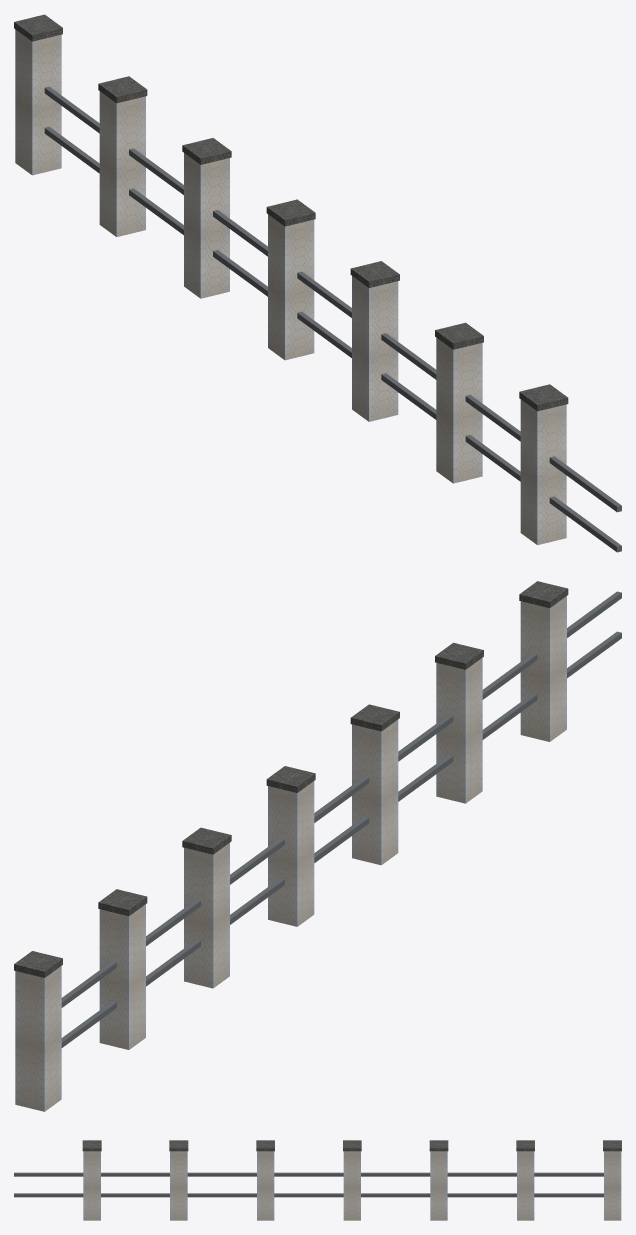
The model's file is Subway05_InterBorder.FBX.
The picture shows the model from 3 angles, top to bottom: view 1: azimuth 30°, elevation 25°; view 2: azimuth 150°, elevation 25°; view 3: azimuth 270°, elevation 25°; orthographic projection. The views are drawn at different scales.
Parts seen in each view (by area): view 1: Subway05_InterBorder01, Subway05_InterBorder03, Subway05_InterBorder02; view 2: Subway05_InterBorder01, Subway05_InterBorder03, Subway05_InterBorder02; view 3: Subway05_InterBorder01, Subway05_InterBorder03, Subway05_InterBorder02.
Part boxes in pixels (x1,y1,x2,y2): Subway05_InterBorder01: (15,29,566,545); Subway05_InterBorder03: (44,86,621,552); Subway05_InterBorder02: (14,14,568,411); Subway05_InterBorder01: (15,596,566,1111); Subway05_InterBorder03: (61,591,621,1047); Subway05_InterBorder02: (14,581,568,977); Subway05_InterBorder01: (83,1151,621,1220); Subway05_InterBorder03: (14,1172,603,1197); Subway05_InterBorder02: (82,1140,621,1151).
Bounding box in the file's own units: 324 × 1418 × 10770.
